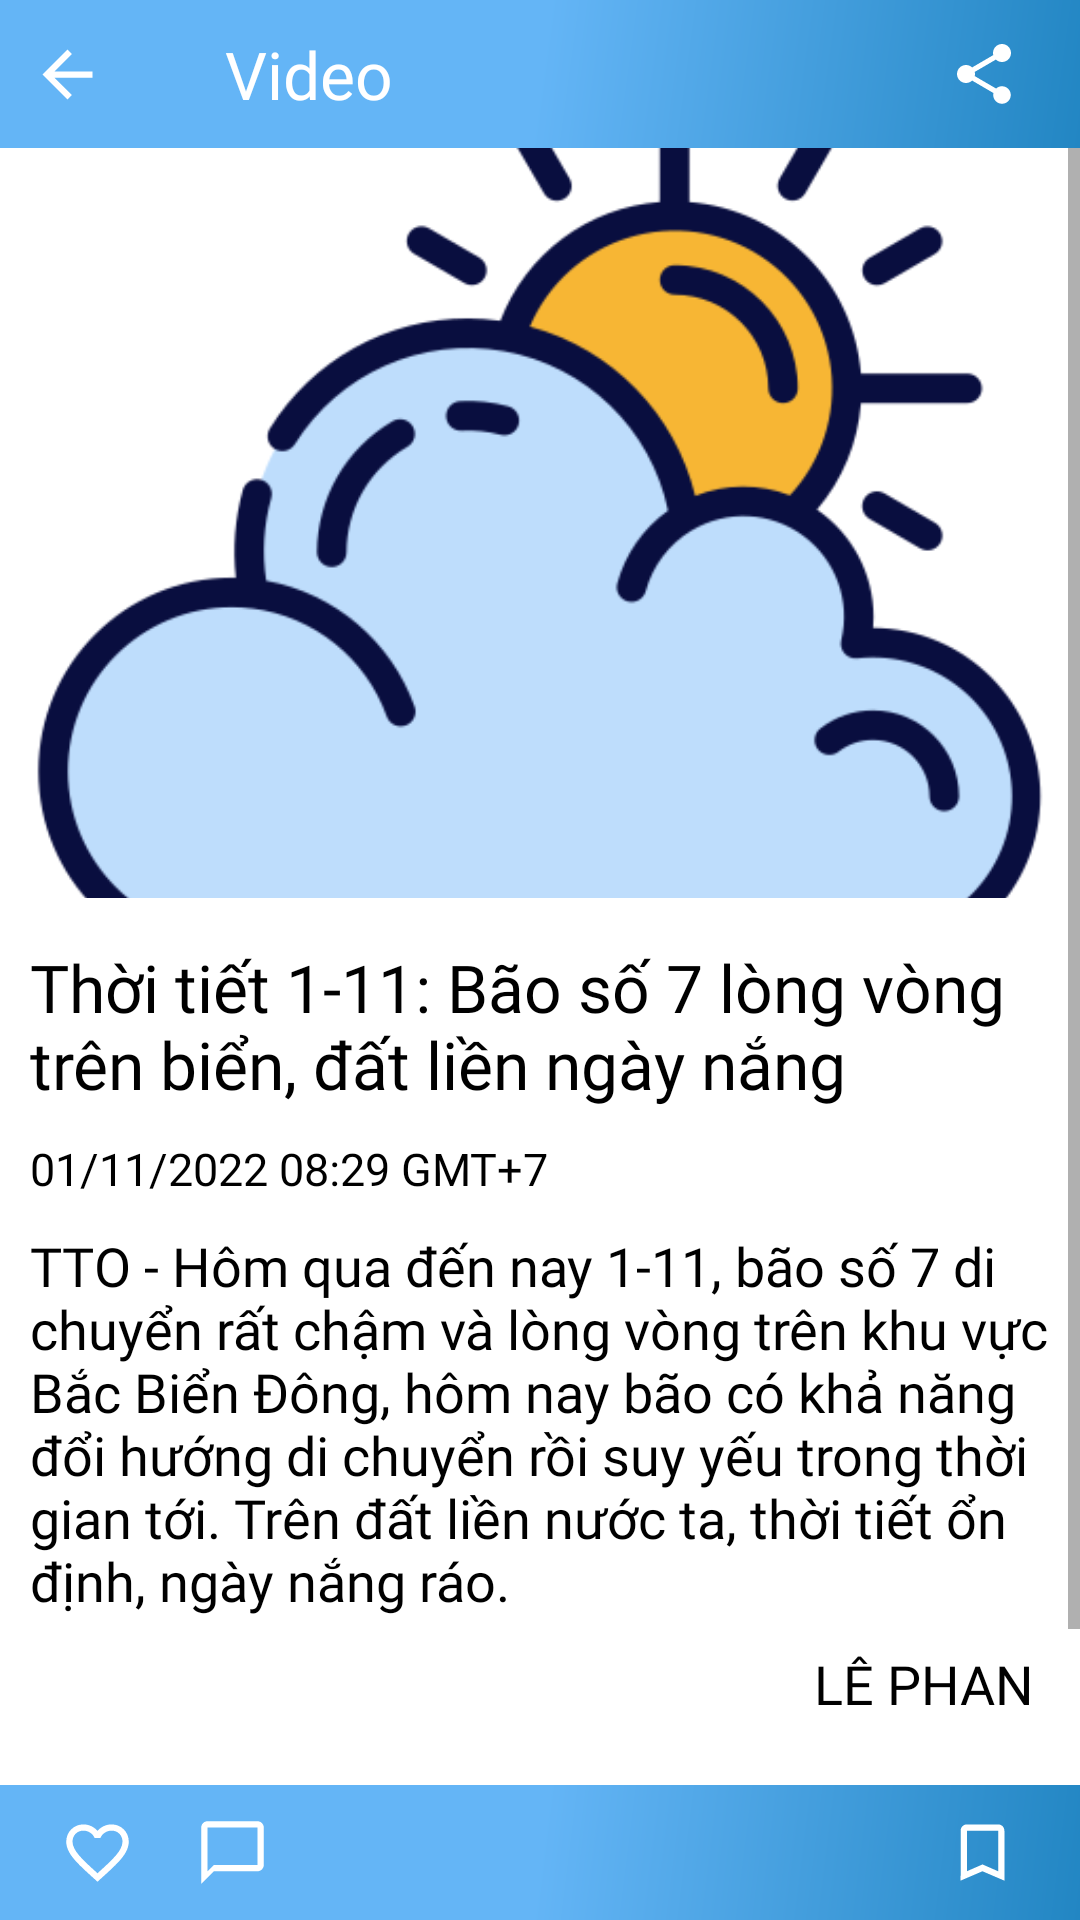

Where icons sit on this 1080 × 1920 app screen, as (x1, y1, x2, y2):
arrow back: (42, 49, 93, 100)
chat bubble: (201, 1821, 264, 1884)
favorite border: (66, 1824, 129, 1882)
share: (957, 44, 1011, 104)
turned in not: (960, 1824, 1005, 1881)
